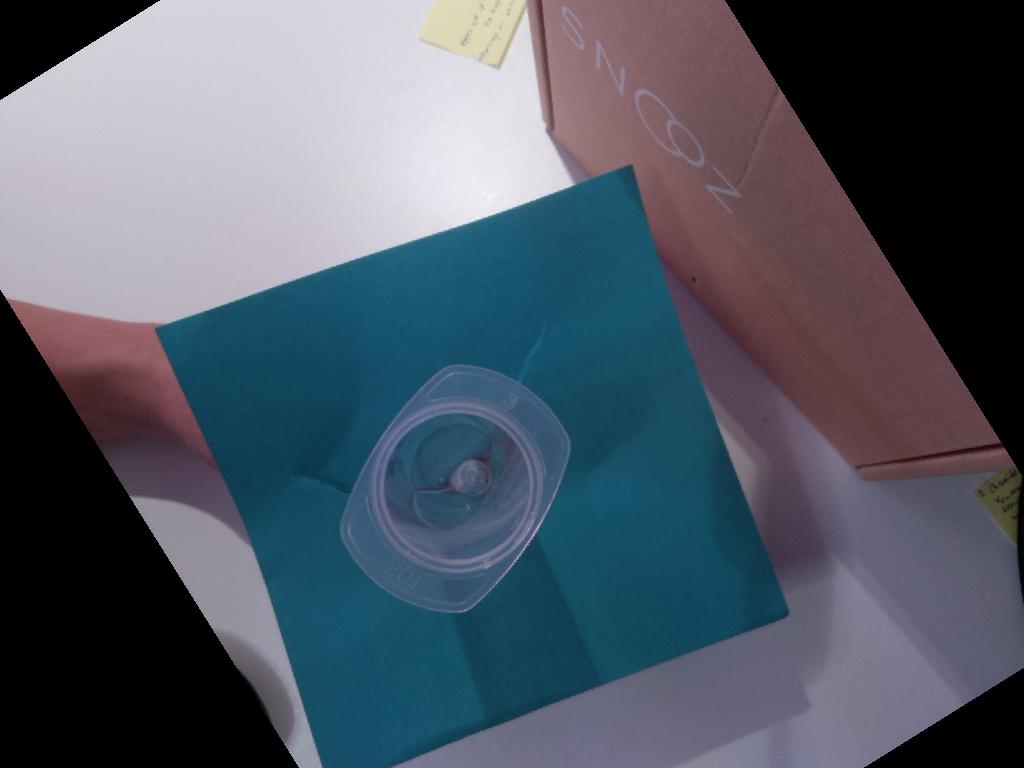clean: (331, 361, 575, 613)
